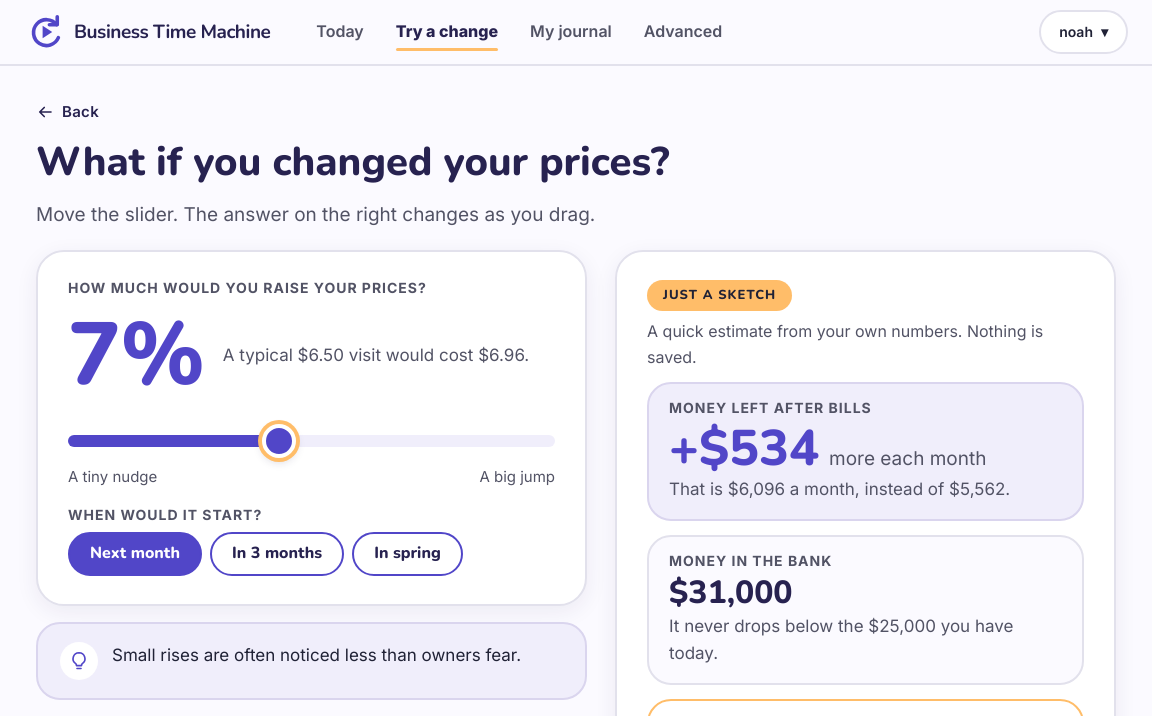
the nav and the links between the pages › Back from Try with nothing before it goes to Today
Step 1. Click the button with aria-label "Go back" → (70, 112), box [28,90,113,134]
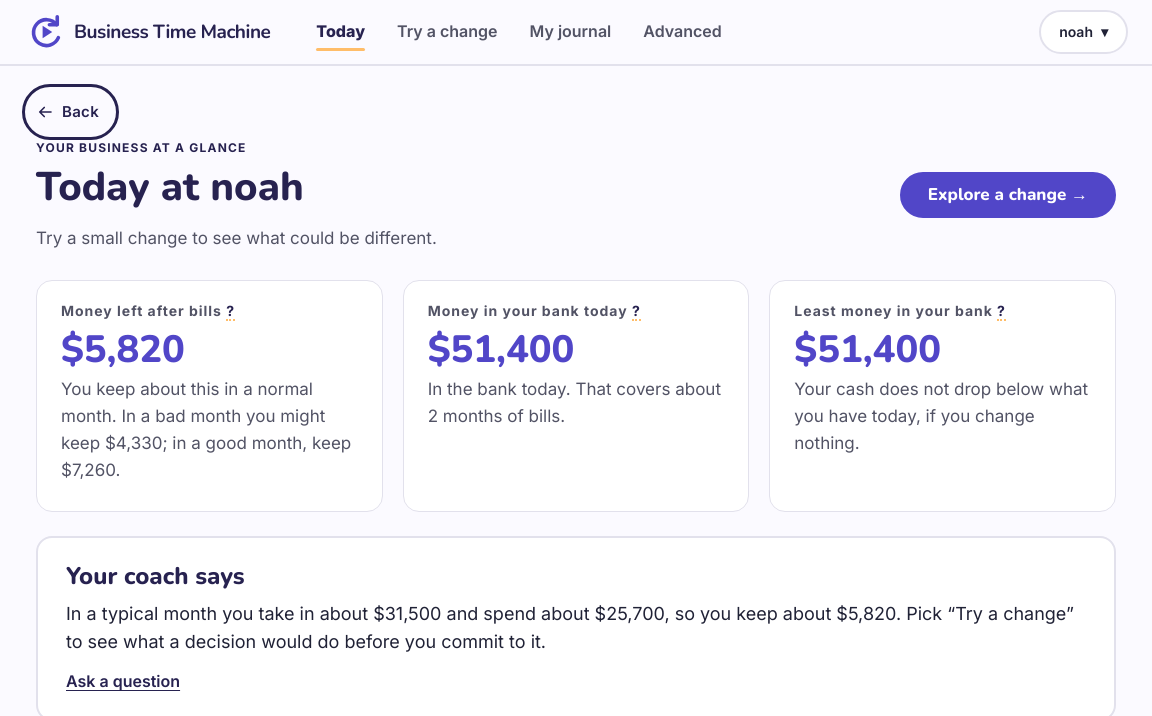
Check: the heading "Today at noah" is shown, box [36,160,304,214]
